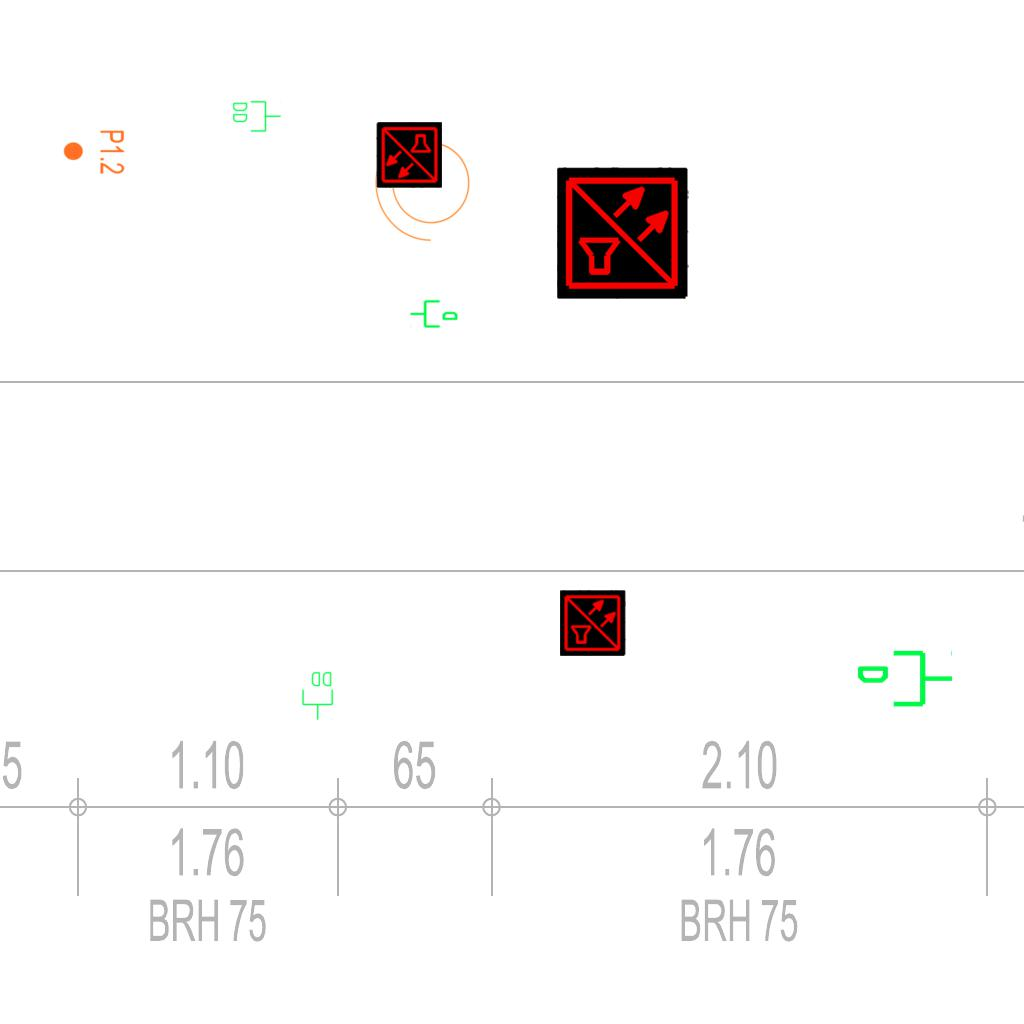Datenanschluss_einfach: (855, 646, 955, 715), (409, 296, 459, 330)
Datenanschluss_zweifach: (231, 99, 282, 133), (301, 670, 335, 721)
Downlight_LED_Einbauleuchten_Flur: (62, 129, 126, 175)
OKW_Multisensormelder_(Kombination_optischer_Rauch-Kahlenmonoxid_Waerme-Melder): (557, 167, 689, 299), (560, 590, 626, 656), (376, 122, 442, 188)
Scheinwerfer_fuer_Alarmbeleuchtung: (370, 120, 482, 252)
